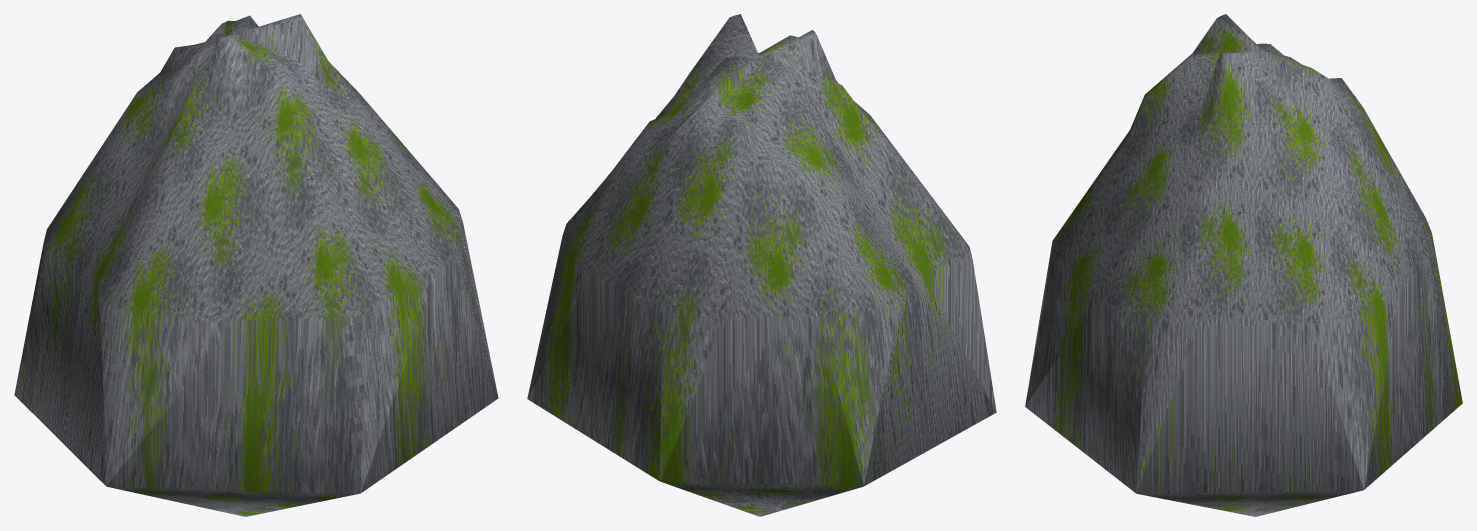
Rendered from rock02.obj.
The picture shows the model from 3 angles, left to right: view 1: azimuth 30°, elevation 25°; view 2: azimuth 150°, elevation 25°; view 3: azimuth 270°, elevation 25°; orthographic projection. The views are drawn at different scales.
Parts seen in each view (by area): view 1: Sphere01; view 2: Sphere01; view 3: Sphere01.
Part boxes in pixels (x1,y1,x2,y2): Sphere01: [14, 14, 498, 516]; Sphere01: [527, 14, 996, 516]; Sphere01: [1025, 14, 1462, 516].
Size of the model in its own units: 230 by 286 by 235.
